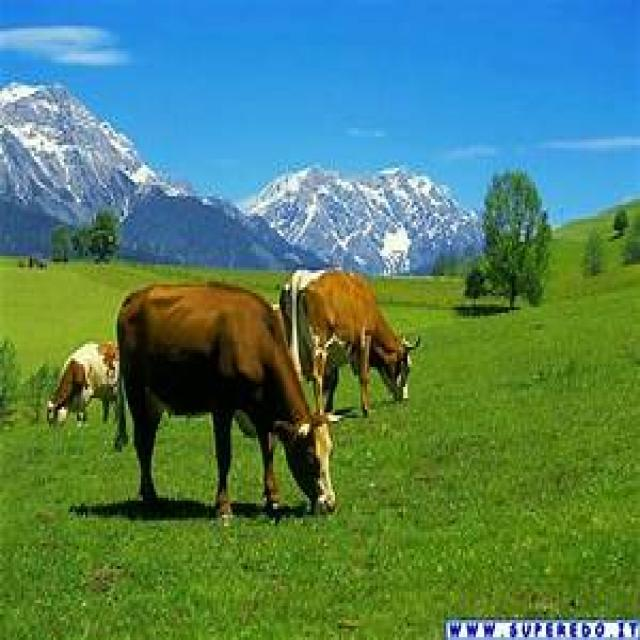cow: (118, 283, 335, 518), (280, 270, 418, 414)
